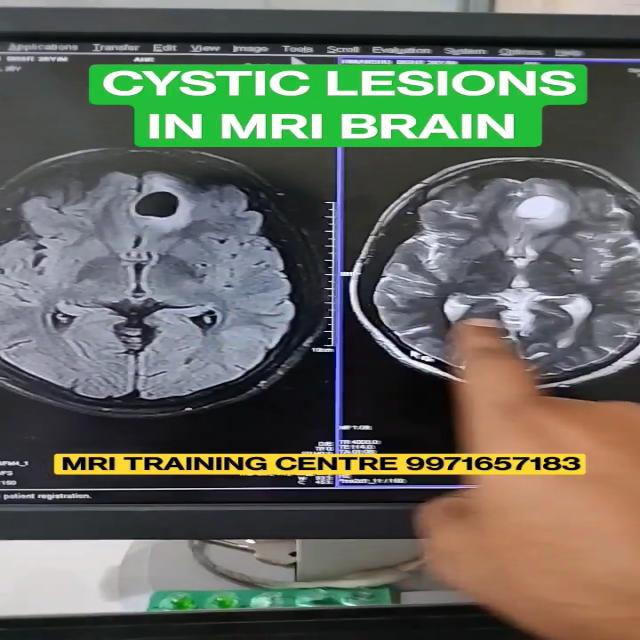tumor: (496, 189, 616, 238), (108, 194, 200, 221)
